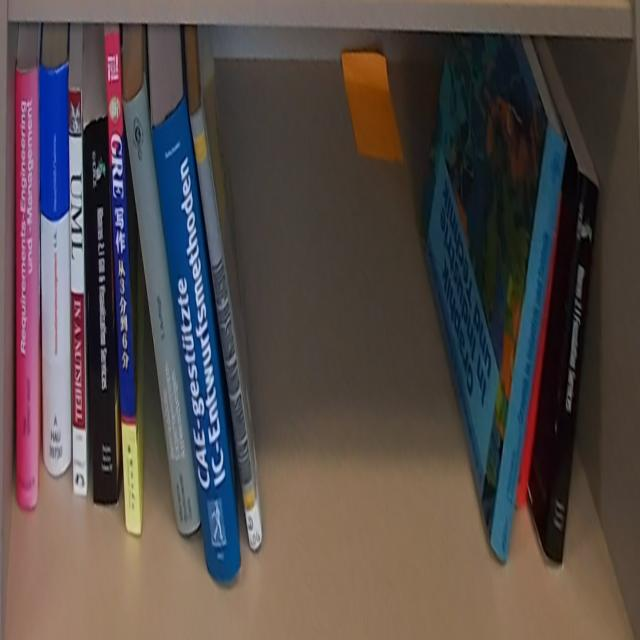Book Spine: (152, 95, 242, 584), (123, 73, 201, 537), (491, 121, 568, 563), (190, 100, 263, 549), (543, 170, 599, 565), (106, 29, 142, 537), (84, 116, 117, 509), (41, 60, 72, 476), (16, 60, 39, 509), (68, 87, 86, 498)
